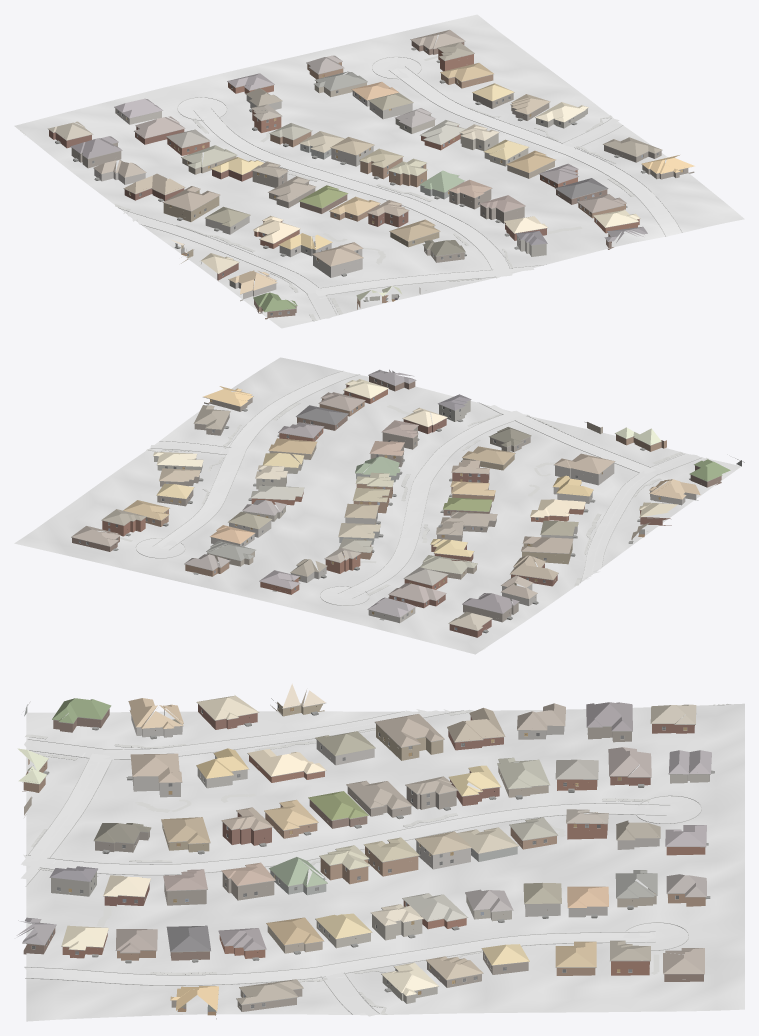
3 views of the same model, one above another, from view 1: azimuth 30°, elevation 25°; view 2: azimuth 150°, elevation 25°; view 3: azimuth 270°, elevation 25° (orthographic). The views are drawn at different scales.
Parts seen in each view (by area): view 1: ground, roof, wall, concrete, detail, asphalt, wall_stone, curb, wall_stucco, walk, glass; view 2: ground, roof, wall, concrete, detail, asphalt, wall_stone, curb, wall_stucco, walk; view 3: ground, roof, wall, concrete, asphalt, detail, curb, wall_stone, wall_stucco, walk, glass.
Boxes of the visible parts, x1=… form: ground: x1=14, y1=14, x2=744, y2=328; roof: x1=48, y1=30, x2=694, y2=311; wall: x1=49, y1=41, x2=694, y2=319; concrete: x1=178, y1=57, x2=681, y2=319; detail: x1=48, y1=39, x2=688, y2=315; asphalt: x1=123, y1=210, x2=534, y2=295; wall_stone: x1=94, y1=91, x2=412, y2=301; curb: x1=118, y1=56, x2=682, y2=320; wall_stucco: x1=115, y1=81, x2=587, y2=256; walk: x1=20, y1=55, x2=635, y2=320; glass: x1=92, y1=48, x2=658, y2=315; ground: x1=14, y1=357, x2=741, y2=654; roof: x1=71, y1=369, x2=730, y2=630; wall: x1=72, y1=376, x2=721, y2=637; concrete: x1=136, y1=371, x2=701, y2=605; detail: x1=71, y1=375, x2=744, y2=633; asphalt: x1=489, y1=405, x2=656, y2=579; wall_stone: x1=211, y1=463, x2=698, y2=605; curb: x1=135, y1=371, x2=701, y2=605; wall_stucco: x1=154, y1=400, x2=741, y2=623; walk: x1=105, y1=402, x2=708, y2=650; ground: x1=26, y1=703, x2=744, y2=1021; roof: x1=16, y1=683, x2=711, y2=1011; wall: x1=22, y1=702, x2=705, y2=1019; concrete: x1=23, y1=739, x2=701, y2=1016; asphalt: x1=21, y1=709, x2=451, y2=879; detail: x1=22, y1=698, x2=714, y2=1012; curb: x1=24, y1=704, x2=730, y2=1014; wall_stone: x1=130, y1=708, x2=659, y2=917; wall_stucco: x1=24, y1=704, x2=709, y2=1003; walk: x1=25, y1=703, x2=729, y2=1014; glass: x1=32, y1=705, x2=678, y2=1008.
Size of the model in its own units: 261 by 13.85 by 254.
